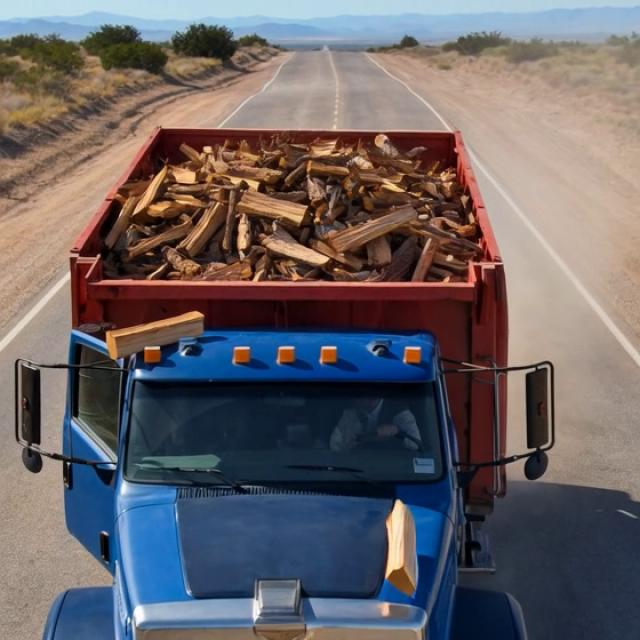Box: (69, 120, 505, 304)
Truck: (14, 102, 585, 635)
